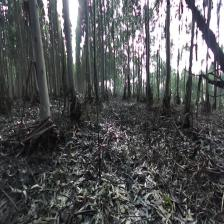trunk: (28, 4, 50, 124), (62, 4, 78, 109), (184, 26, 195, 113), (163, 5, 171, 108)
